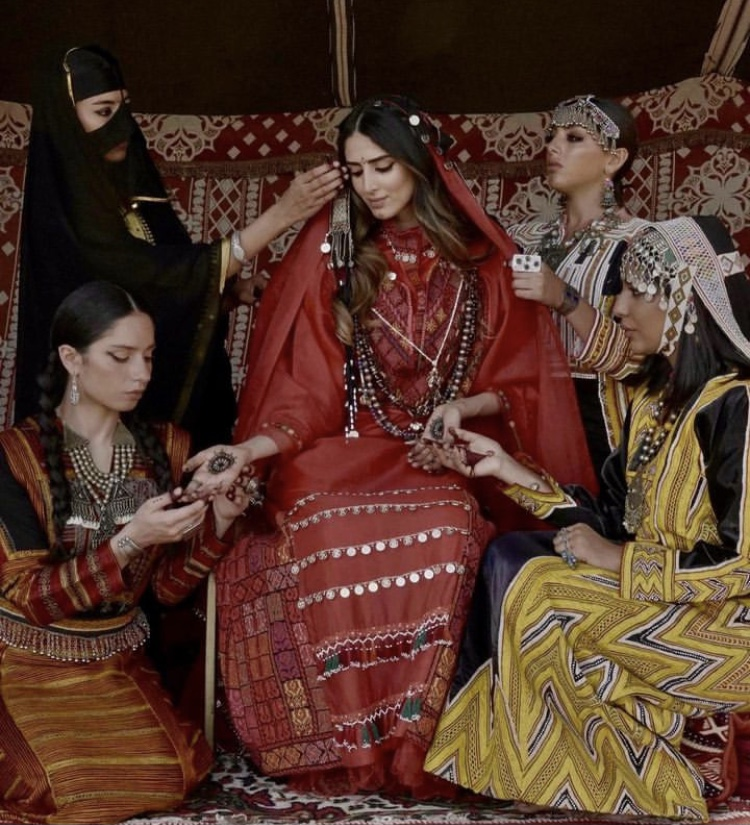Saudi_Founding_Day: (179, 94, 601, 819), (423, 214, 748, 825), (14, 42, 351, 517), (1, 281, 263, 823), (503, 92, 680, 524)
